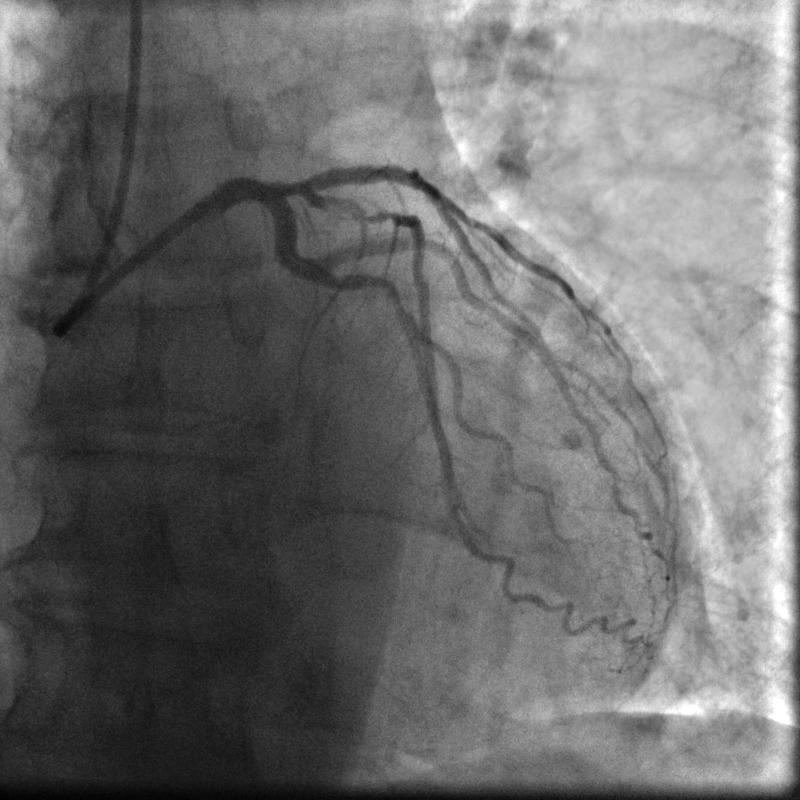Stenosis: (321, 188, 390, 233)
